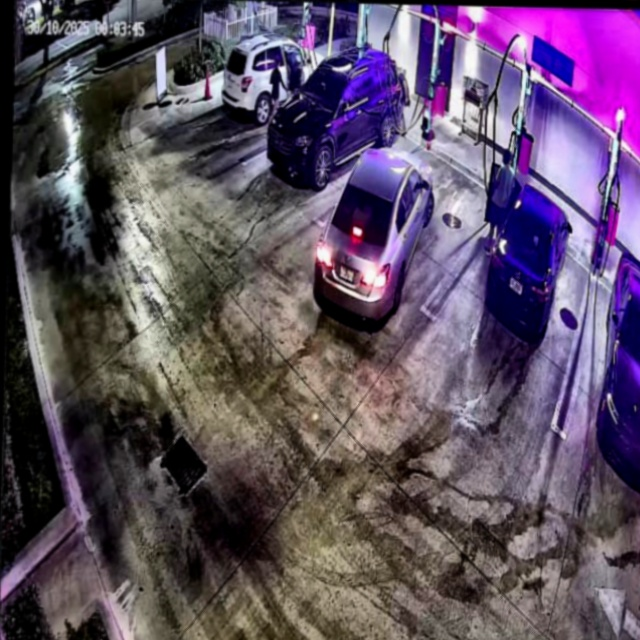Car: (312, 140, 433, 325), (267, 46, 404, 183), (484, 162, 574, 337)
